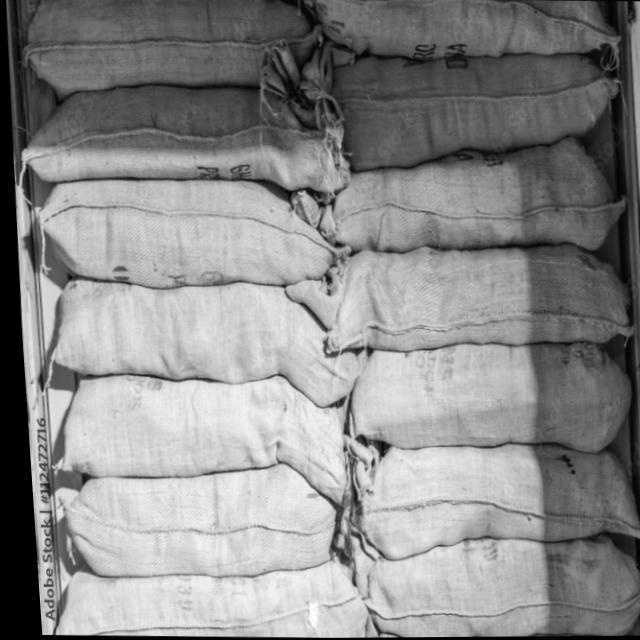sack: (40, 274, 356, 409), (45, 371, 344, 507), (13, 80, 349, 194), (30, 175, 349, 292), (312, 133, 627, 251), (327, 51, 623, 176), (345, 441, 639, 564), (314, 244, 630, 358), (50, 459, 332, 580), (336, 338, 629, 454), (341, 531, 640, 638), (17, 0, 324, 98), (39, 562, 369, 640), (318, 0, 619, 56)
